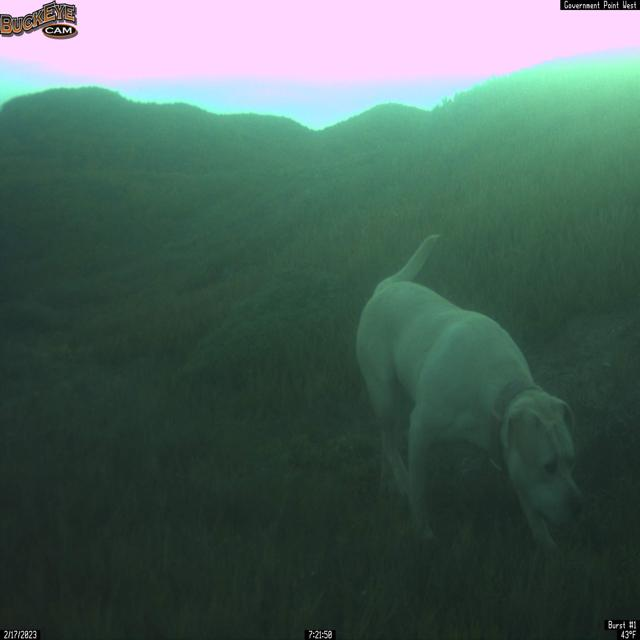dog: (354, 233, 586, 557)
